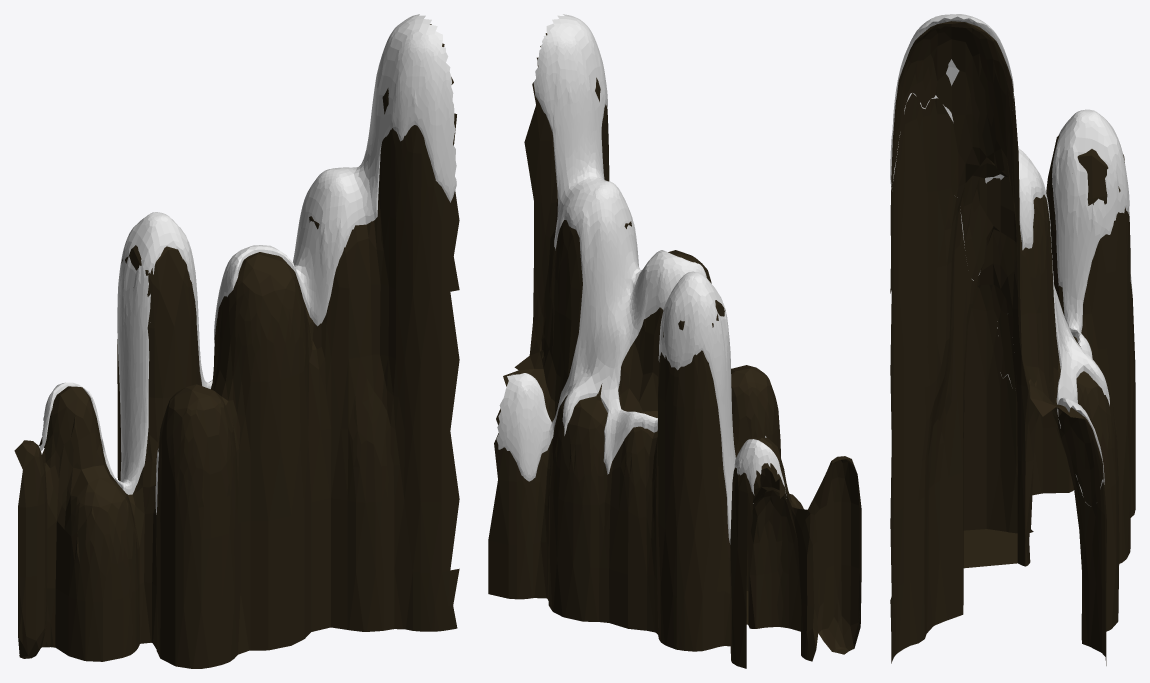
File: Mtn_Wall_E3_M.fbx
3 views of the same model, side by side, from view 1: azimuth 30°, elevation 25°; view 2: azimuth 150°, elevation 25°; view 3: azimuth 270°, elevation 25° (orthographic). The views are drawn at different scales.
Parts seen in each view (by area): view 1: Mtn_Wall_E3_M; view 2: Mtn_Wall_E3_M; view 3: Mtn_Wall_E3_M.
Part boxes in pixels (bbox=[...]): Mtn_Wall_E3_M: bbox=[14, 14, 459, 668]; Mtn_Wall_E3_M: bbox=[488, 14, 861, 668]; Mtn_Wall_E3_M: bbox=[890, 14, 1135, 665].
Size of the model in its own units: 18923 by 27950 by 9618.
